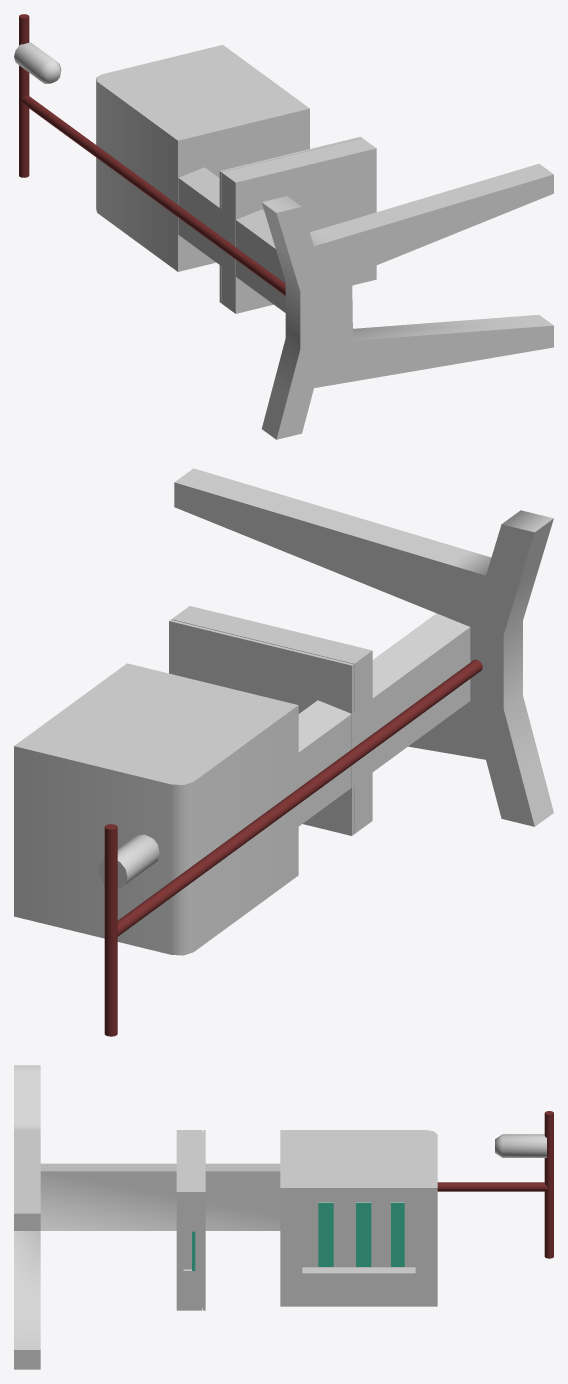
3 views of the same model, one above another, from view 1: azimuth 30°, elevation 25°; view 2: azimuth 150°, elevation 25°; view 3: azimuth 270°, elevation 25° (orthographic). The views are drawn at different scales.
Visible parts, largest first — view 1: Cube.001; view 2: Cube.001; view 3: Cube.001.
Boxes of the visible parts, <box> form: Cube.001: <box>14,14,553,439</box>; Cube.001: <box>14,468,553,1036</box>; Cube.001: <box>14,1065,553,1369</box>.
Size of the model in its own units: 19.21 by 15 by 35.88.
